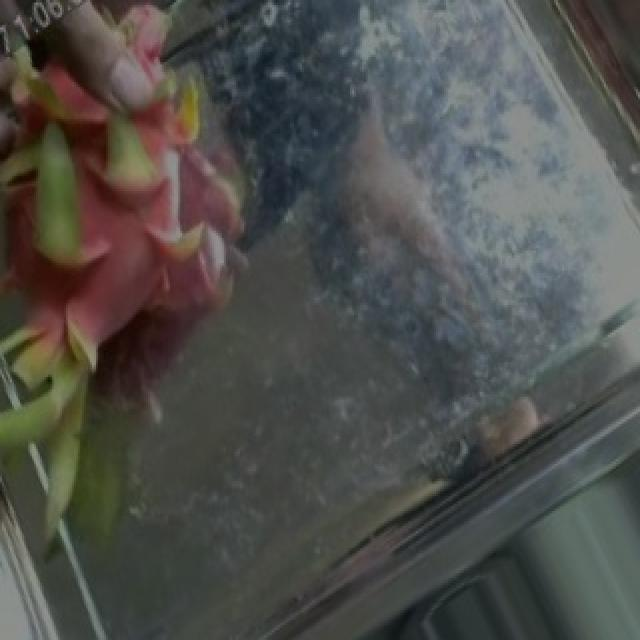fruit: (0, 0, 314, 417)
